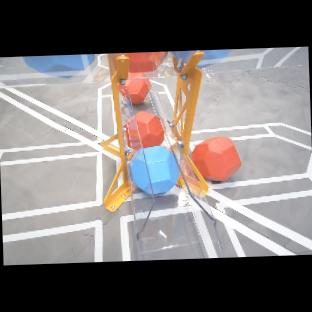V5_BLUE: (129, 146, 179, 194), (23, 54, 95, 74), (200, 49, 232, 67), (171, 50, 198, 62)
